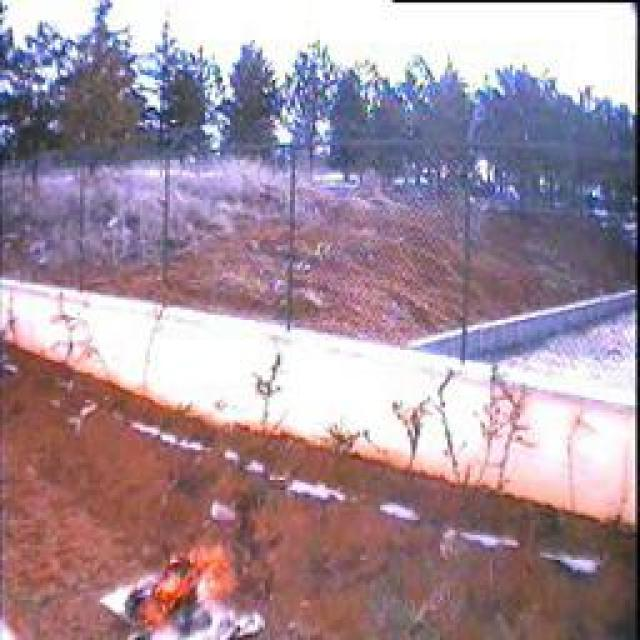Fire: (122, 540, 255, 637)
